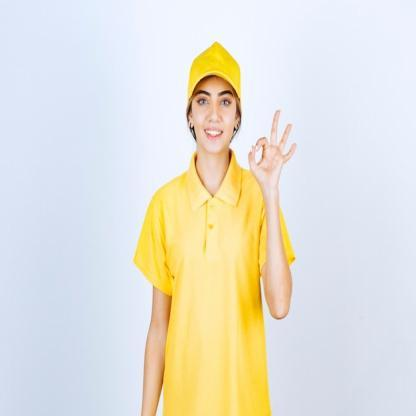ok: (246, 106, 298, 194)
